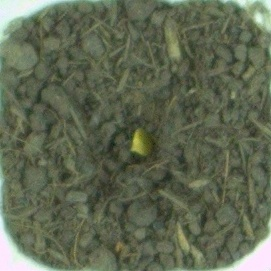pepper seed: (49, 46, 208, 207)
